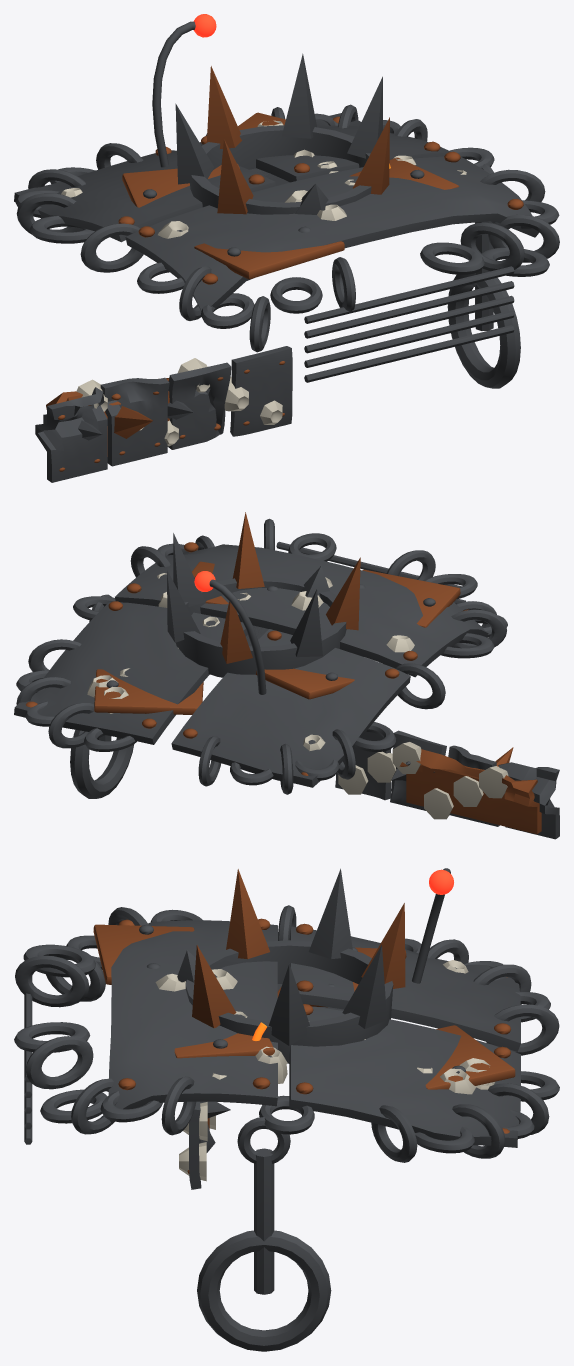
The model's file is enemy-gear.glb.
3 views of the same model, one above another, from view 1: azimuth 30°, elevation 25°; view 2: azimuth 150°, elevation 25°; view 3: azimuth 270°, elevation 25° (orthographic). The views are drawn at different scales.
Parts seen in each view (by area): view 1: enemy_corrodius_mesh, enemy_corrodius_claw_mesh, enemy_scrapling_mesh, enemy_scavenger_claw_mesh, enemy_scavenger_mesh; view 2: enemy_corrodius_mesh, enemy_scavenger_claw_mesh, enemy_scrapling_mesh, enemy_corrodius_claw_mesh, enemy_scavenger_mesh; view 3: enemy_corrodius_mesh, enemy_scrapling_mesh, enemy_scavenger_mesh, enemy_corrodius_claw_mesh, enemy_scavenger_claw_mesh.
Boxes of the visible parts, <box> form: enemy_corrodius_mesh: <box>14,53,559,388</box>; enemy_corrodius_claw_mesh: <box>35,346,292,482</box>; enemy_scrapling_mesh: <box>122,14,459,279</box>; enemy_scavenger_claw_mesh: <box>46,358,282,456</box>; enemy_scavenger_mesh: <box>61,120,466,238</box>; enemy_corrodius_mesh: <box>14,512,507,798</box>; enemy_scavenger_claw_mesh: <box>338,742,541,834</box>; enemy_scrapling_mesh: <box>94,561,460,714</box>; enemy_corrodius_claw_mesh: <box>335,730,559,839</box>; enemy_scavenger_mesh: <box>87,573,414,750</box>; enemy_corrodius_mesh: <box>14,868,559,1351</box>; enemy_scrapling_mesh: <box>93,868,515,1089</box>; enemy_scavenger_mesh: <box>155,930,494,1094</box>; enemy_corrodius_claw_mesh: <box>187,1101,230,1189</box>; enemy_scavenger_claw_mesh: <box>179,1102,215,1181</box>.
Bounding box in the file's own units: 0.2371 × 0.1649 × 0.2154.
